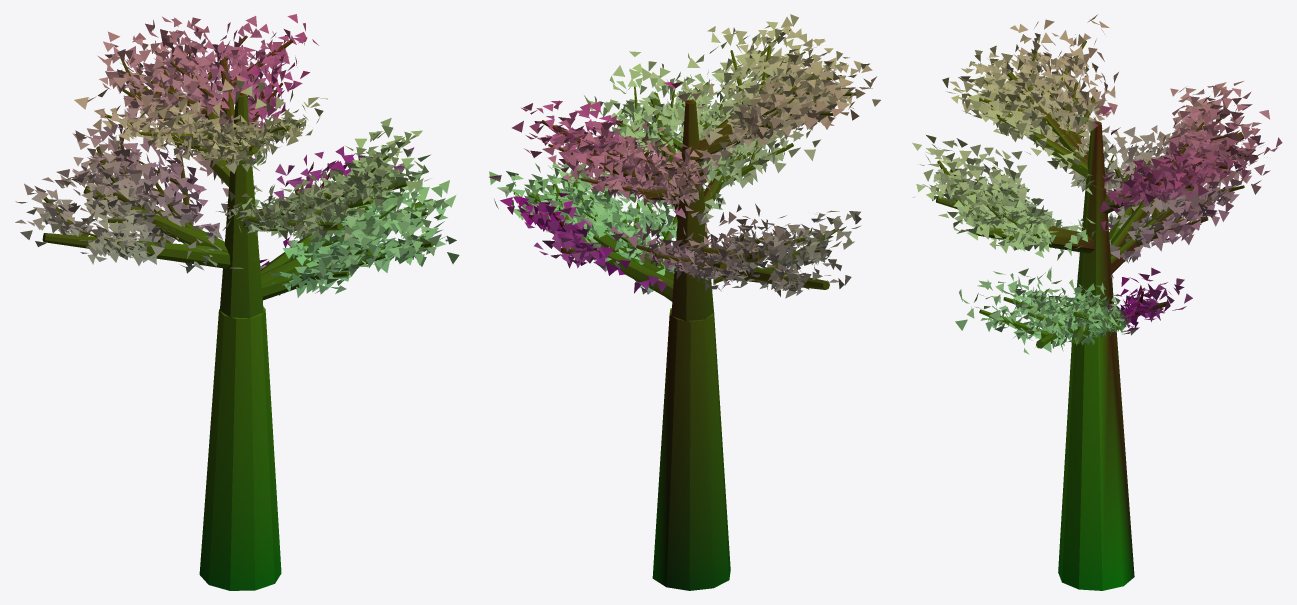
Rendered from ecological_savanna_old_02.glb.
3 views of the same model, side by side, from view 1: azimuth 30°, elevation 25°; view 2: azimuth 150°, elevation 25°; view 3: azimuth 270°, elevation 25° (orthographic). The views are drawn at different scales.
Visible parts, largest first — view 1: ecological_savanna_old_02; view 2: ecological_savanna_old_02; view 3: ecological_savanna_old_02.
Boxes of the visible parts, x1,y1,x2,y2 form: ecological_savanna_old_02: (15,14,459,590); ecological_savanna_old_02: (489,14,880,590); ecological_savanna_old_02: (912,14,1282,590).
Bounding box in the file's own units: 39.31 × 50.09 × 34.66.
